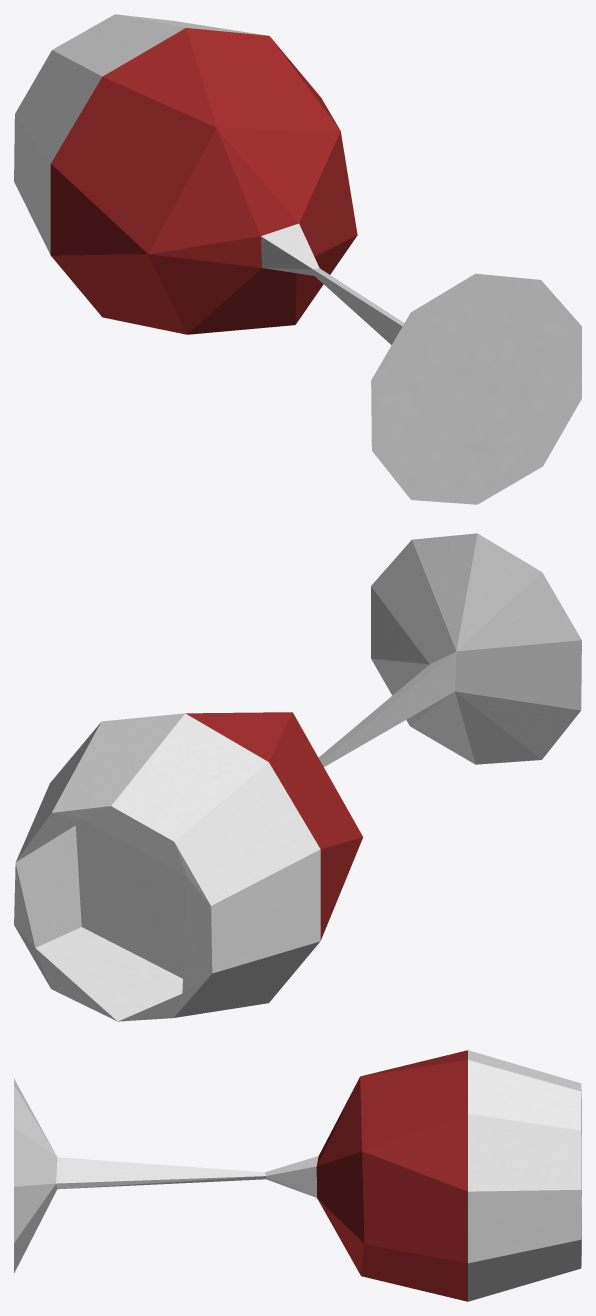
File: pink_symbol_wine.FBX
3 views of the same model, one above another, from view 1: azimuth 30°, elevation 25°; view 2: azimuth 150°, elevation 25°; view 3: azimuth 270°, elevation 25° (orthographic). The views are drawn at different scales.
Parts seen in each view (by area): view 1: grass_1; view 2: grass_1; view 3: grass_1.
Boxes of the visible parts, x1,y1,x2,y2 form: grass_1: [14, 14, 581, 504]; grass_1: [14, 533, 581, 1021]; grass_1: [14, 1050, 581, 1301].
Bounding box in the file's own units: 139 × 146 × 323.
